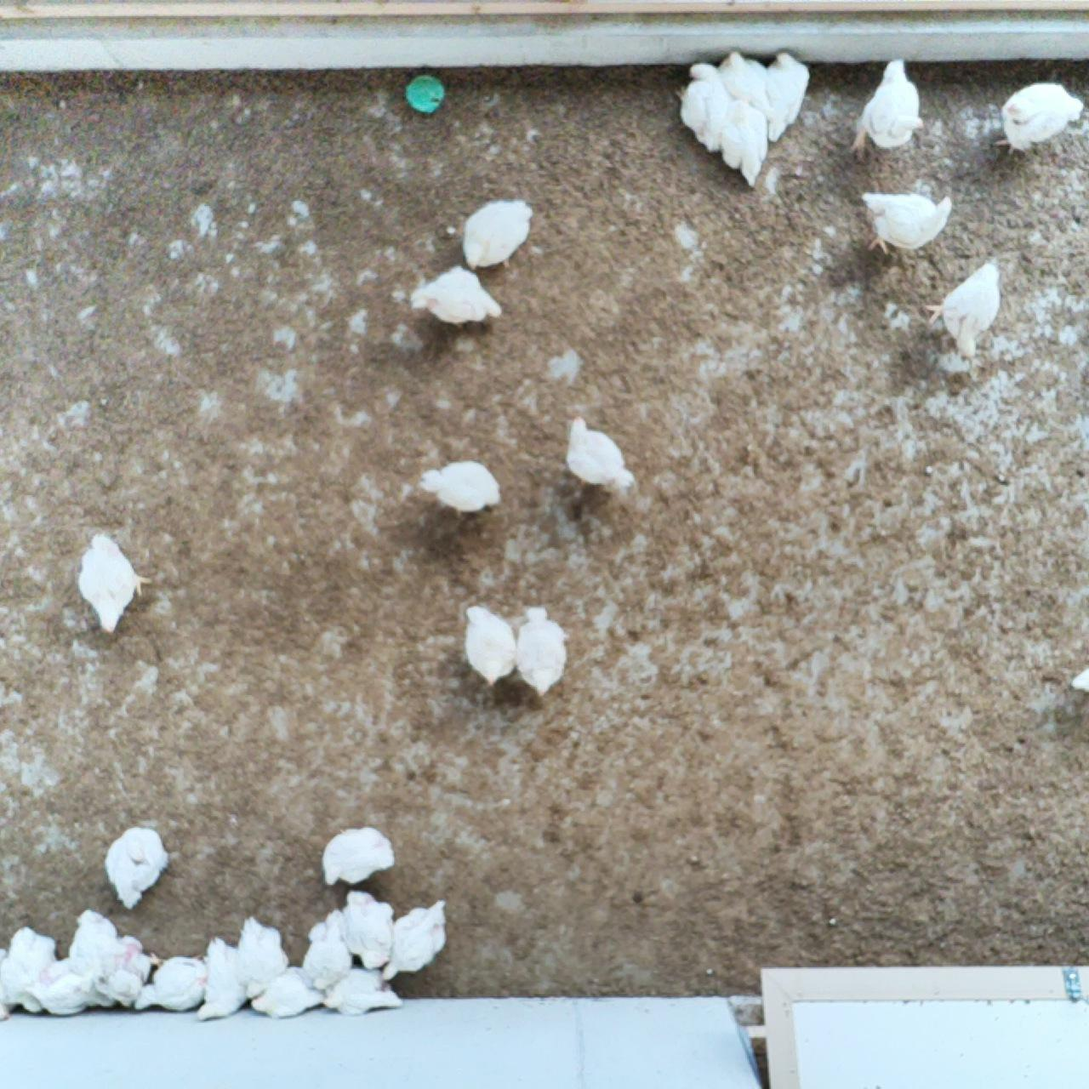chicken: (842, 53, 931, 171), (70, 529, 158, 639), (921, 258, 1008, 367), (989, 77, 1087, 160), (401, 263, 509, 332), (857, 186, 958, 258), (712, 90, 781, 190), (100, 821, 174, 913), (79, 928, 159, 1013), (381, 896, 454, 987), (669, 60, 737, 153), (563, 411, 639, 494), (318, 819, 399, 896), (417, 456, 506, 524), (459, 194, 535, 270), (755, 47, 814, 144), (133, 949, 214, 1018), (516, 604, 573, 700), (191, 934, 251, 1024), (61, 903, 125, 987), (461, 601, 520, 692), (337, 887, 398, 974), (234, 912, 291, 1005), (5, 925, 63, 1016), (246, 960, 328, 1022), (320, 960, 405, 1018), (22, 954, 95, 1018), (299, 907, 353, 993), (716, 46, 775, 116)
